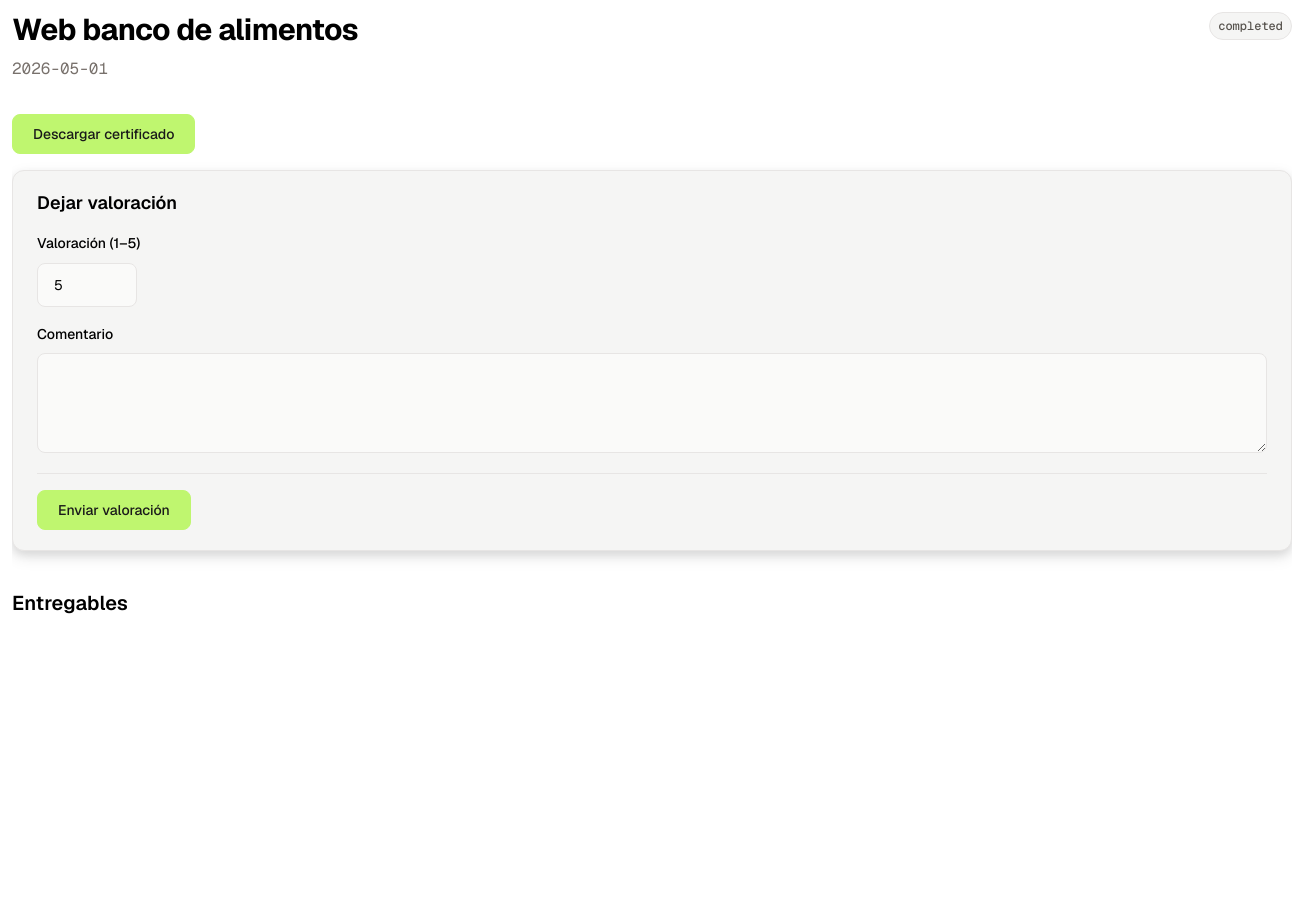
Test case: StudentAssignmentPage — valoración (HU14) › AC5: error 409 muestra mensaje "ya has valorado"
Step 1. Replace the text in the number field named "valoración" with "3" → (87, 284), box left=37, top=262, right=137, bottom=306
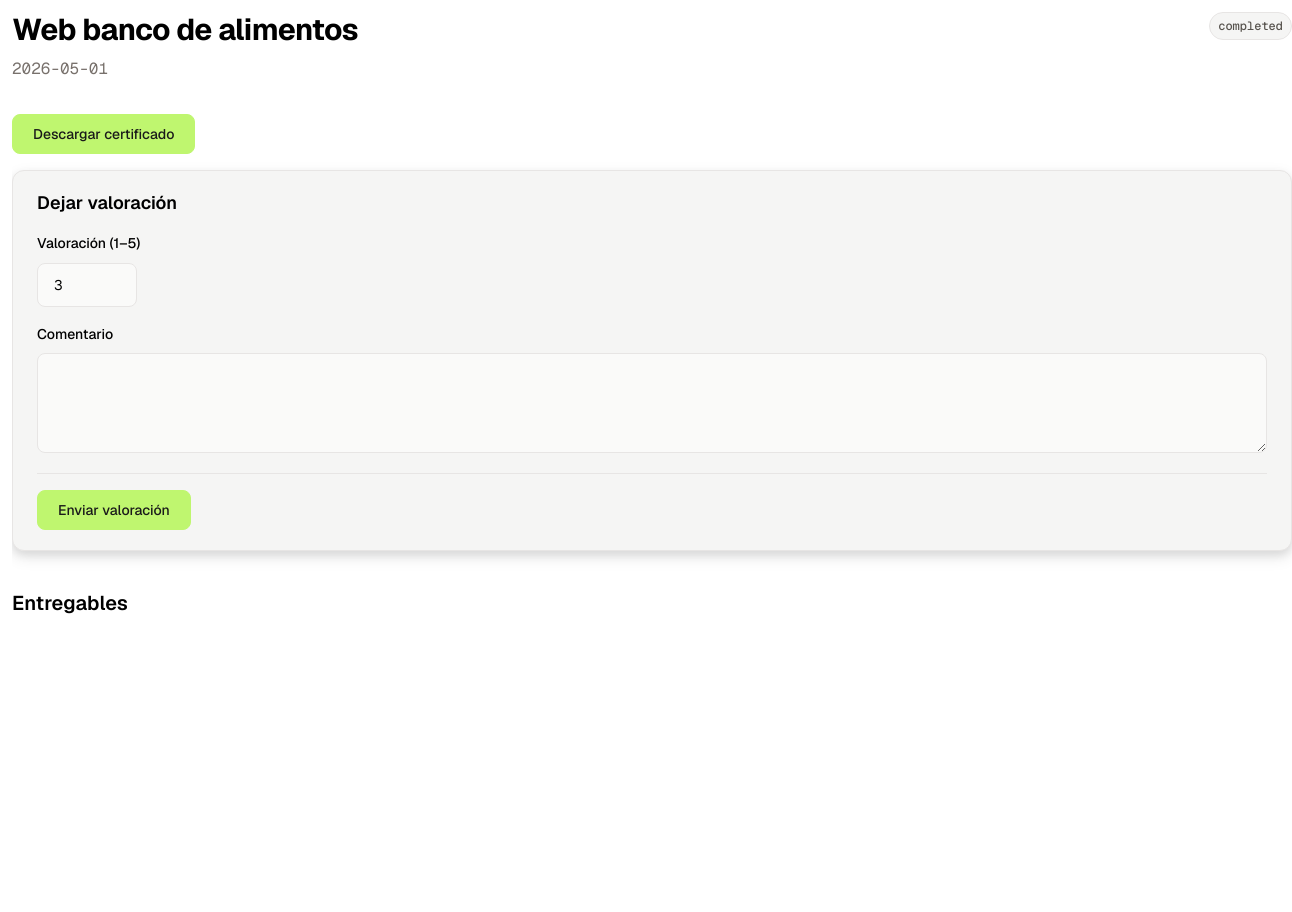
Step 2. Click the button "Enviar valoración" → (114, 510), box left=37, top=490, right=191, bottom=530
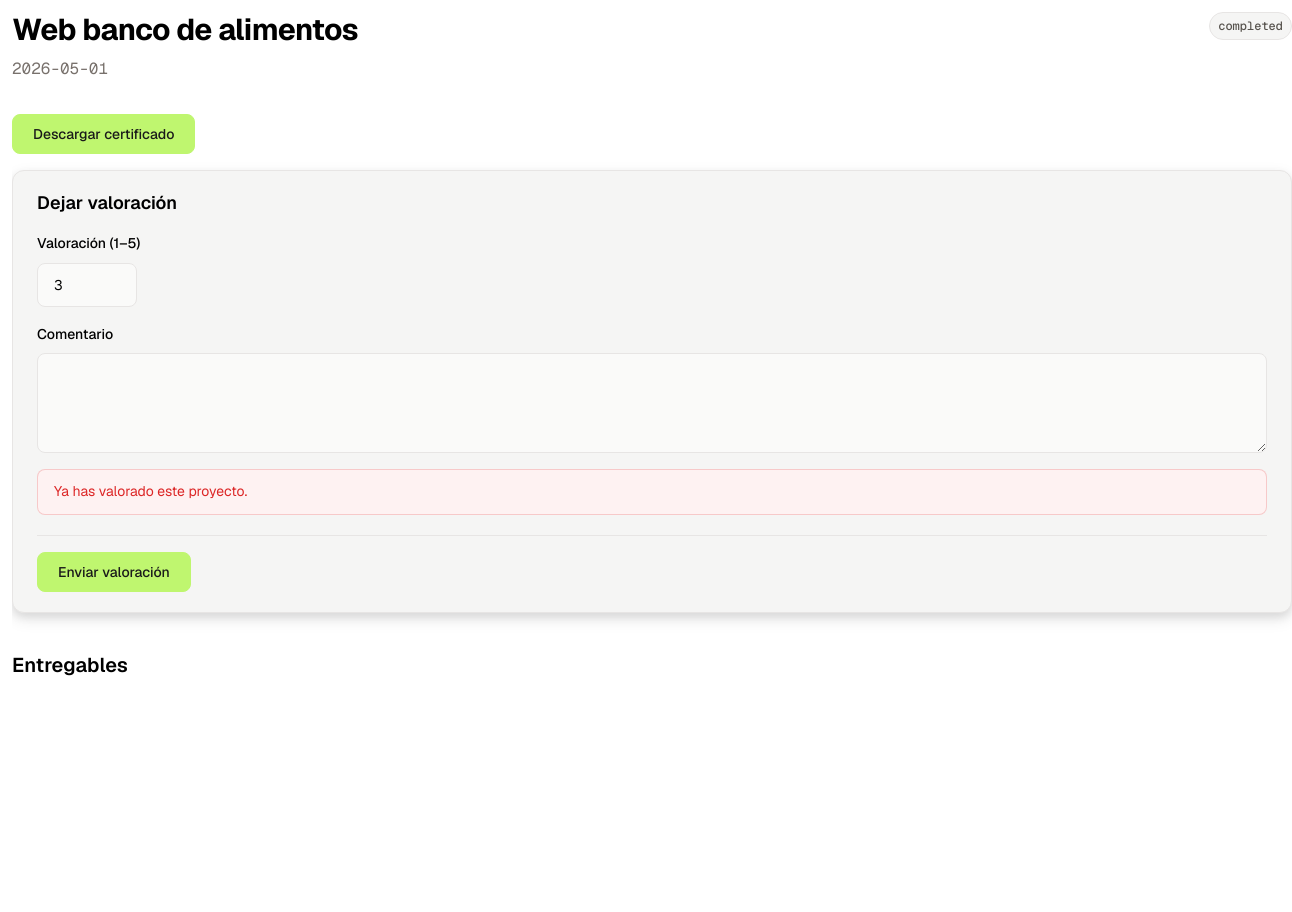
Result: the message "Ya has valorado este proyecto." is shown at left=37, top=469, right=1267, bottom=515
Result: the message shows "Ya has valorado" at left=54, top=482, right=247, bottom=500
